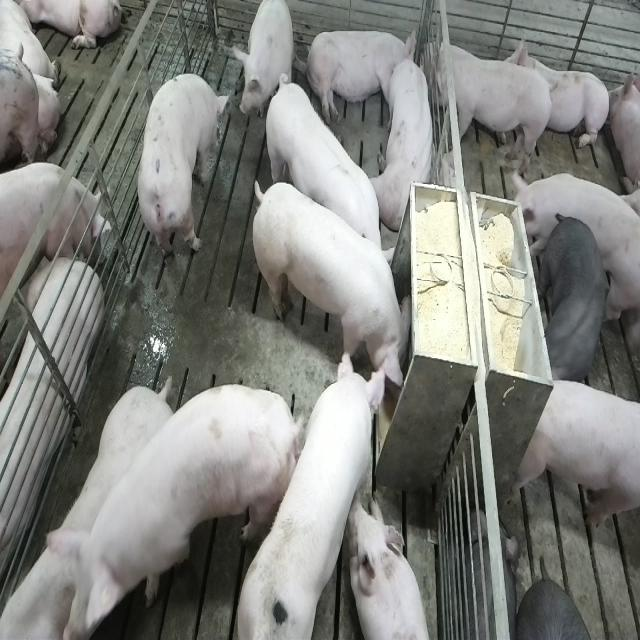Feeding: (230, 353, 386, 640), (255, 171, 419, 396)
Lateral_lying: (0, 250, 100, 624), (304, 25, 418, 127)
Sitting: (236, 2, 298, 128)
Standing: (4, 382, 187, 640), (130, 380, 302, 630), (261, 70, 393, 285), (511, 376, 639, 539), (136, 70, 230, 275), (424, 41, 555, 178), (0, 163, 109, 306)
Sternal_lying: (511, 31, 609, 154), (352, 497, 434, 640), (374, 52, 438, 232)
